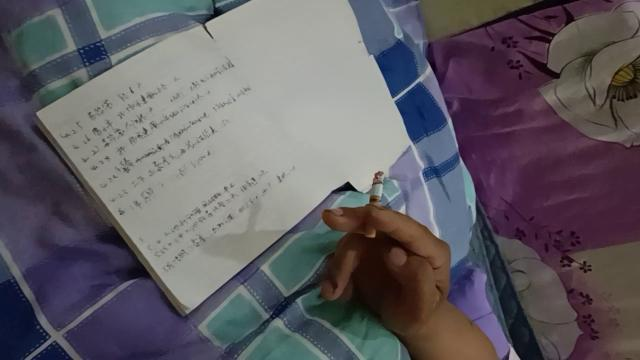Smoking: (364, 170, 384, 238)
